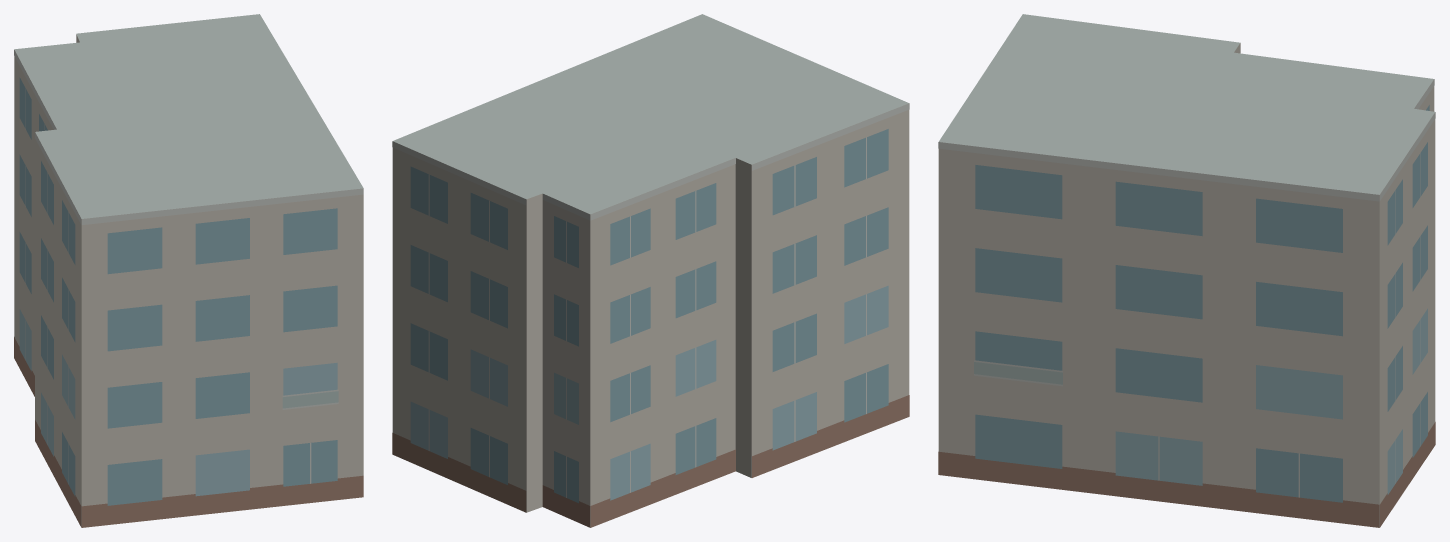
File: survey-upis-32782766.glb
3 views of the same model, side by side, from view 1: azimuth 30°, elevation 25°; view 2: azimuth 150°, elevation 25°; view 3: azimuth 270°, elevation 25° (orthographic). The views are drawn at different scales.
Visible parts, largest first — view 1: survey-upis-32782766.tmp; view 2: survey-upis-32782766.tmp; view 3: survey-upis-32782766.tmp.
Boxes of the visible parts, x1,y1,x2,y2 form: survey-upis-32782766.tmp: [14, 14, 363, 527]; survey-upis-32782766.tmp: [392, 14, 909, 527]; survey-upis-32782766.tmp: [938, 14, 1435, 527].
Bounding box in the file's own units: 14.22 × 12.2 × 16.51.
